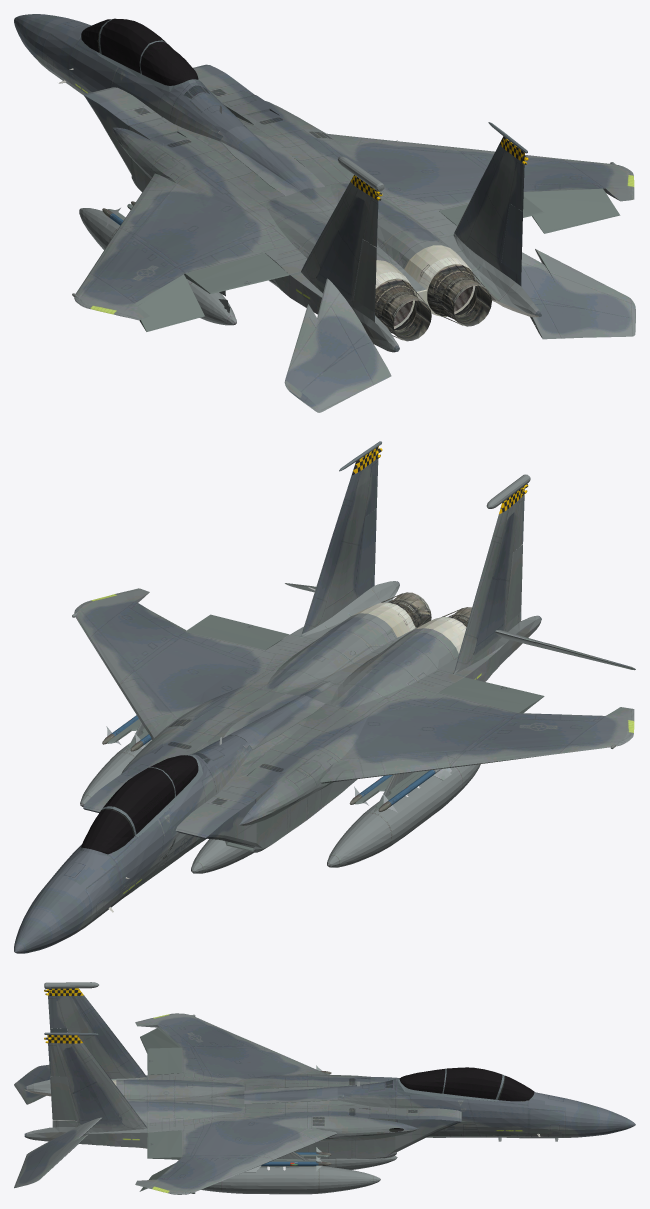
File: F-15C_Eagle.obj
3 views of the same model, one above another, from view 1: azimuth 30°, elevation 25°; view 2: azimuth 150°, elevation 25°; view 3: azimuth 270°, elevation 25° (orthographic). The views are drawn at different scales.
Parts seen in each view (by area): view 1: Body Wings_Main, Body Body_1, Wing_Flaps Rear_Wing_Flaps Rear_Right_Wing_Flap_2, Wing_Flaps Rear_Wing_Flaps Rear_Left_Wing_Flap_3, Body Body_3, Canopy Glass_2, Middle_brake_flap Middle_Brake_Flap_Outer, Wing_Flaps Rear_Wing_Flaps Rear_Left_Wing_Flap_, Body Body_Under_1, Wing_Flaps Rear_Wing_Flaps Rear_Left_Wing_Flap_2, Wing_Flaps Rear_Wing_Flaps Rear_Right_Wing_Flap, Weapons Bombs (+6 smaller); view 2: Body Wings_Main, Body Body_1, Body Body_3, Weapons Bombs, Canopy Glass_2, Middle_brake_flap Middle_Brake_Flap_Outer, Body Body_Under_1, Wing_Flaps Rear_Wing_Flaps Rear_Left_Wing_Flap_2, Wing_Flaps Rear_Wing_Flaps Rear_Right_Wing_Flap_3, Body Body_Parts_1, Canopy Glass_1, Weapons Missiles (+4 smaller); view 3: Body Wings_Main, Body Body_1, Body Body_2, Weapons Bombs, Canopy Glass_2, Wing_Flaps Rear_Wing_Flaps Rear_Left_Wing_Flap_3, Middle_brake_flap Middle_Brake_Flap_Outer, Wing_Flaps Rear_Wing_Flaps Rear_Right_Wing_Flap_3, Wing_Flaps Rear_Fin_Flaps Rear_Fin_Flap_Left, Wing_Flaps Rear_Wing_Flaps Rear_Left_Wing_Flap_2, Wing_Flaps Rear_Wing_Flaps Rear_Right_Wing_Flap_2, Canopy Glass_1 (+6 smaller).
Boxes of the visible parts, x1=… form: Body Wings_Main: x1=74, y1=64, x2=634, y2=347; Body Body_1: x1=14, y1=14, x2=541, y2=352; Wing_Flaps Rear_Wing_Flaps Rear_Right_Wing_Flap_2: x1=284, y1=278, x2=391, y2=412; Wing_Flaps Rear_Wing_Flaps Rear_Left_Wing_Flap_3: x1=521, y1=249, x2=635, y2=339; Body Body_3: x1=42, y1=28, x2=394, y2=352; Canopy Glass_2: x1=100, y1=18, x2=198, y2=85; Middle_brake_flap Middle_Brake_Flap_Outer: x1=218, y1=125, x2=324, y2=195; Wing_Flaps Rear_Wing_Flaps Rear_Left_Wing_Flap_: x1=523, y1=188, x2=620, y2=233; Body Body_Under_1: x1=58, y1=68, x2=539, y2=328; Wing_Flaps Rear_Wing_Flaps Rear_Left_Wing_Flap_2: x1=184, y1=253, x2=289, y2=293; Wing_Flaps Rear_Wing_Flaps Rear_Right_Wing_Flap: x1=135, y1=274, x2=204, y2=331; Weapons Bombs: x1=79, y1=208, x2=277, y2=325; Body Wings_Main: x1=74, y1=581, x2=634, y2=837; Body Body_1: x1=14, y1=446, x2=541, y2=953; Body Body_3: x1=80, y1=618, x2=541, y2=927; Weapons Bombs: x1=80, y1=739, x2=480, y2=873; Canopy Glass_2: x1=103, y1=755, x2=198, y2=833; Middle_brake_flap Middle_Brake_Flap_Outer: x1=223, y1=694, x2=324, y2=749; Body Body_Under_1: x1=108, y1=441, x2=466, y2=912; Wing_Flaps Rear_Wing_Flaps Rear_Left_Wing_Flap_2: x1=439, y1=677, x2=544, y2=713; Wing_Flaps Rear_Wing_Flaps Rear_Right_Wing_Flap_3: x1=185, y1=614, x2=289, y2=649; Body Body_Parts_1: x1=107, y1=474, x2=530, y2=850; Canopy Glass_1: x1=81, y1=809, x2=133, y2=854; Weapons Missiles: x1=102, y1=715, x2=451, y2=812; Body Wings_Main: x1=26, y1=1013, x2=461, y2=1194; Body Body_1: x1=24, y1=988, x2=635, y2=1167; Body Body_2: x1=26, y1=1079, x2=565, y2=1158; Weapons Bombs: x1=201, y1=1156, x2=397, y2=1194; Canopy Glass_2: x1=399, y1=1067, x2=502, y2=1099; Wing_Flaps Rear_Wing_Flaps Rear_Left_Wing_Flap_3: x1=14, y1=1117, x2=101, y2=1188; Middle_brake_flap Middle_Brake_Flap_Outer: x1=244, y1=1086, x2=343, y2=1103; Wing_Flaps Rear_Wing_Flaps Rear_Right_Wing_Flap_3: x1=147, y1=1130, x2=181, y2=1159; Wing_Flaps Rear_Fin_Flaps Rear_Fin_Flap_Left: x1=50, y1=1076, x2=77, y2=1121; Wing_Flaps Rear_Wing_Flaps Rear_Left_Wing_Flap_2: x1=147, y1=1047, x2=181, y2=1074; Wing_Flaps Rear_Wing_Flaps Rear_Right_Wing_Flap_2: x1=14, y1=1065, x2=50, y2=1104; Canopy Glass_1: x1=499, y1=1075, x2=534, y2=1101.
Size of the model in its own units: 13.04 by 5.52 by 18.95.
